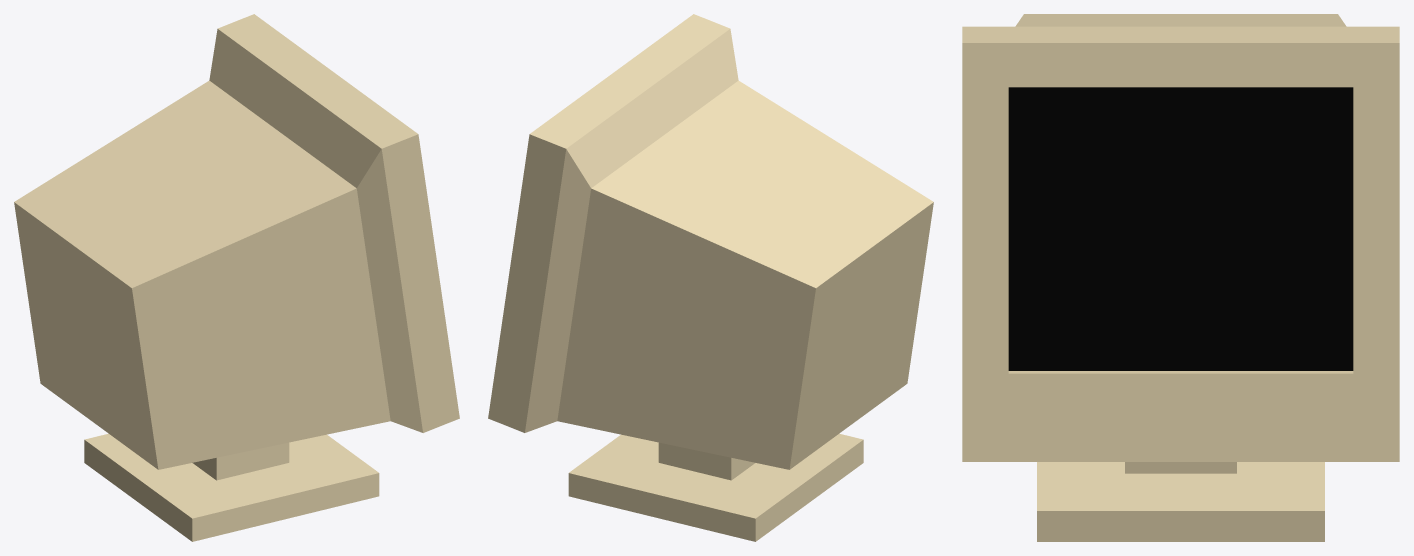
The model's file is CRT.glb.
The picture shows the model from 3 angles, left to right: view 1: azimuth 30°, elevation 25°; view 2: azimuth 150°, elevation 25°; view 3: azimuth 270°, elevation 25°; orthographic projection. The views are drawn at different scales.
Visible parts, largest first — view 1: CRT; view 2: CRT; view 3: CRT.
Part boxes in pixels (x1,y1,x2,y2): CRT: (14,14,459,541); CRT: (488,14,933,541); CRT: (962,14,1399,541).
Bounding box in the file's own units: 2.39 × 2.84 × 2.23.
